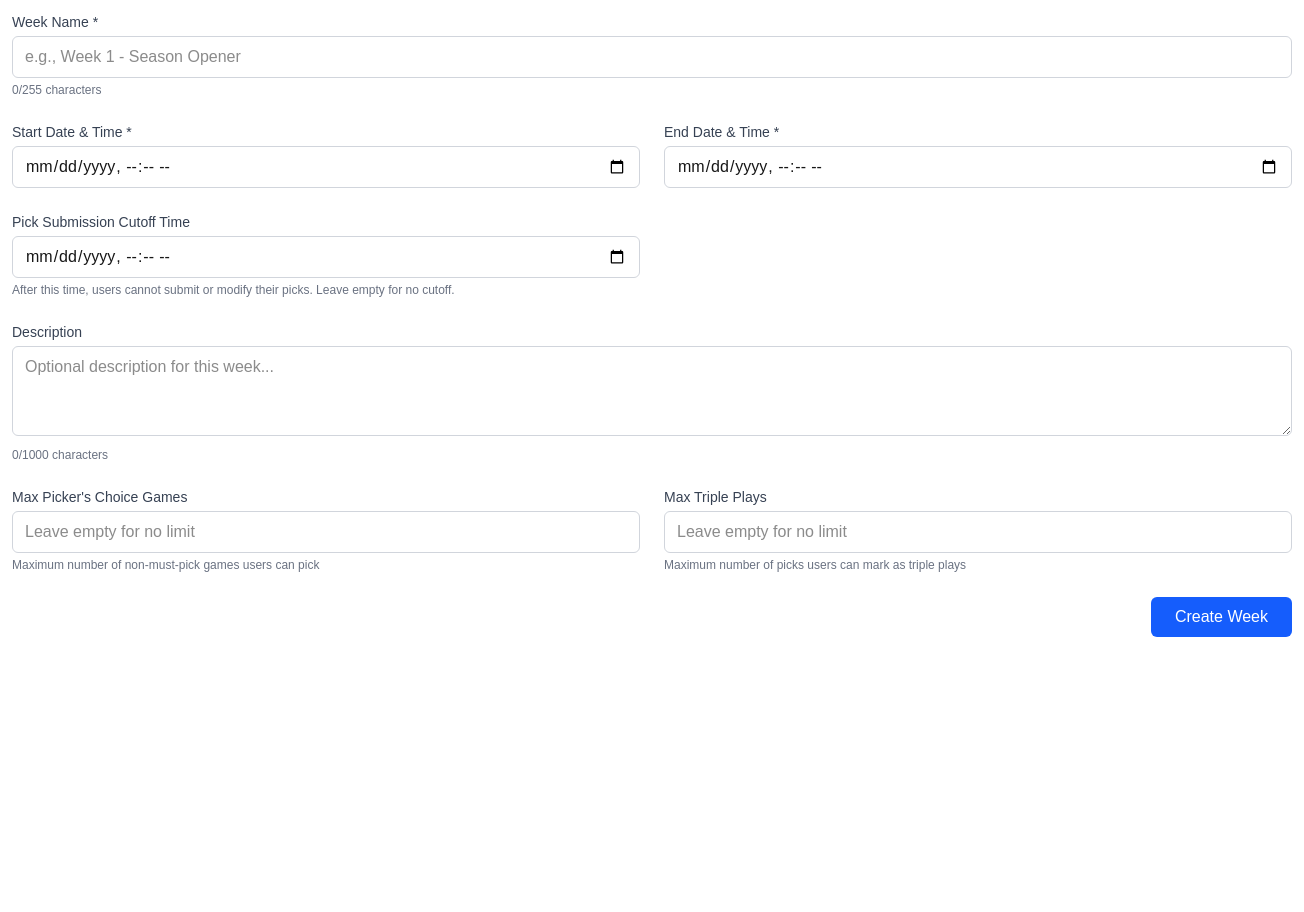
it: WeekForm › should validate date range
In the field labelled "Week Name *": (652, 57) [12,36,1292,78], type "Test Week"
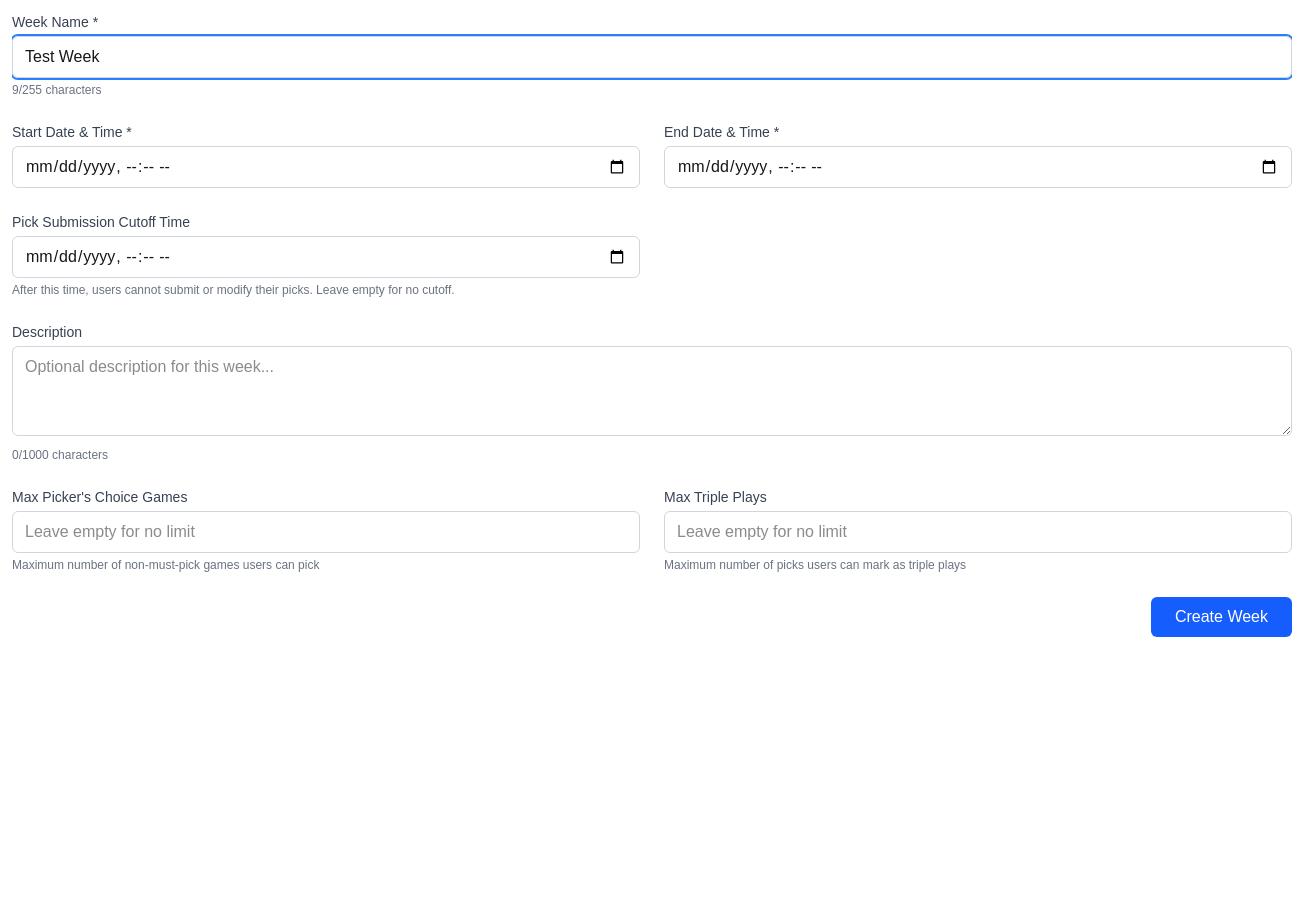
In the field labelled "Start Date & Time *": (326, 167) [12,146,640,188], type "2024-09-08T00:00"
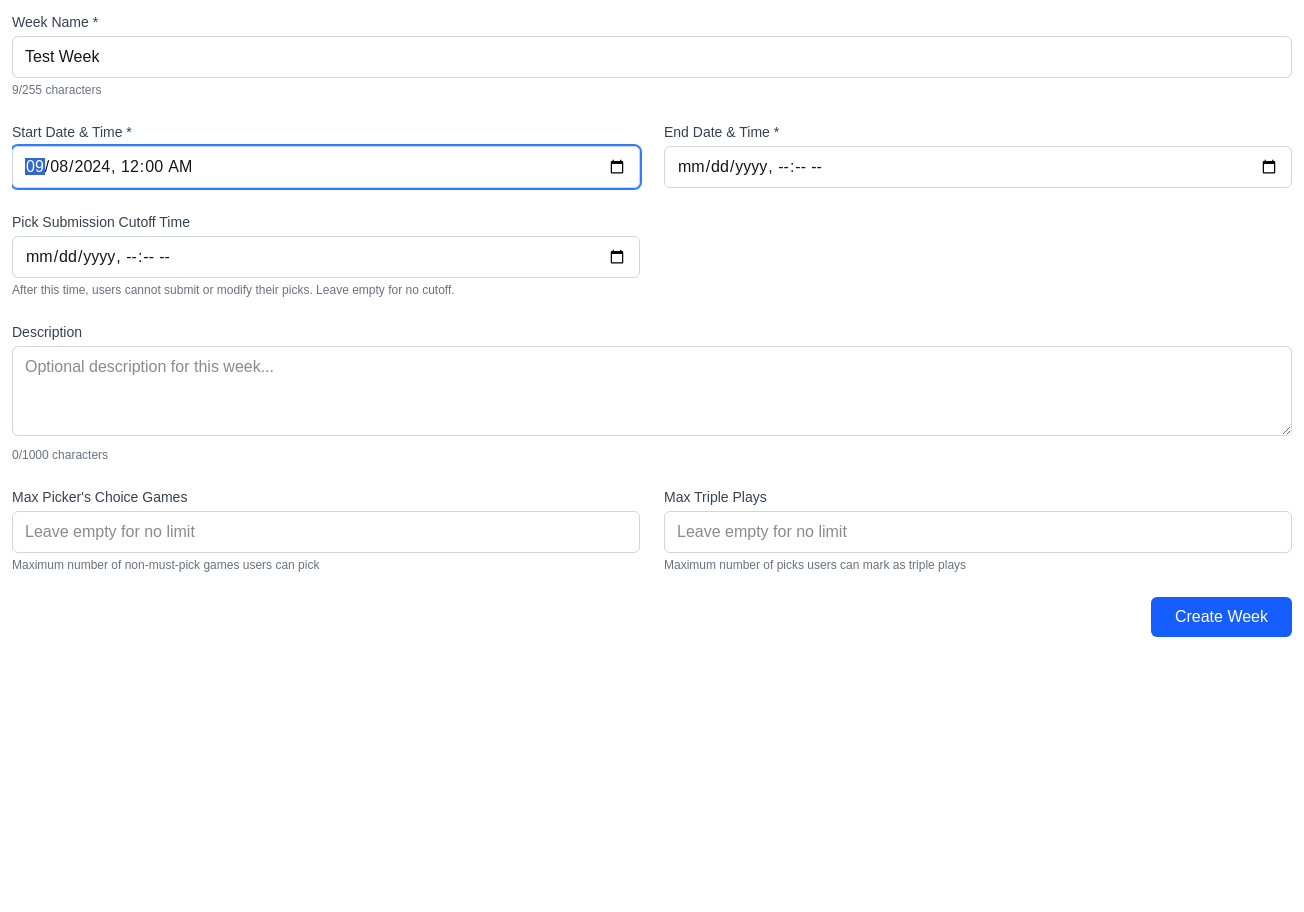
In the field labelled "End Date & Time *": (978, 167) [664,146,1292,188], type "2024-09-01T23:59"
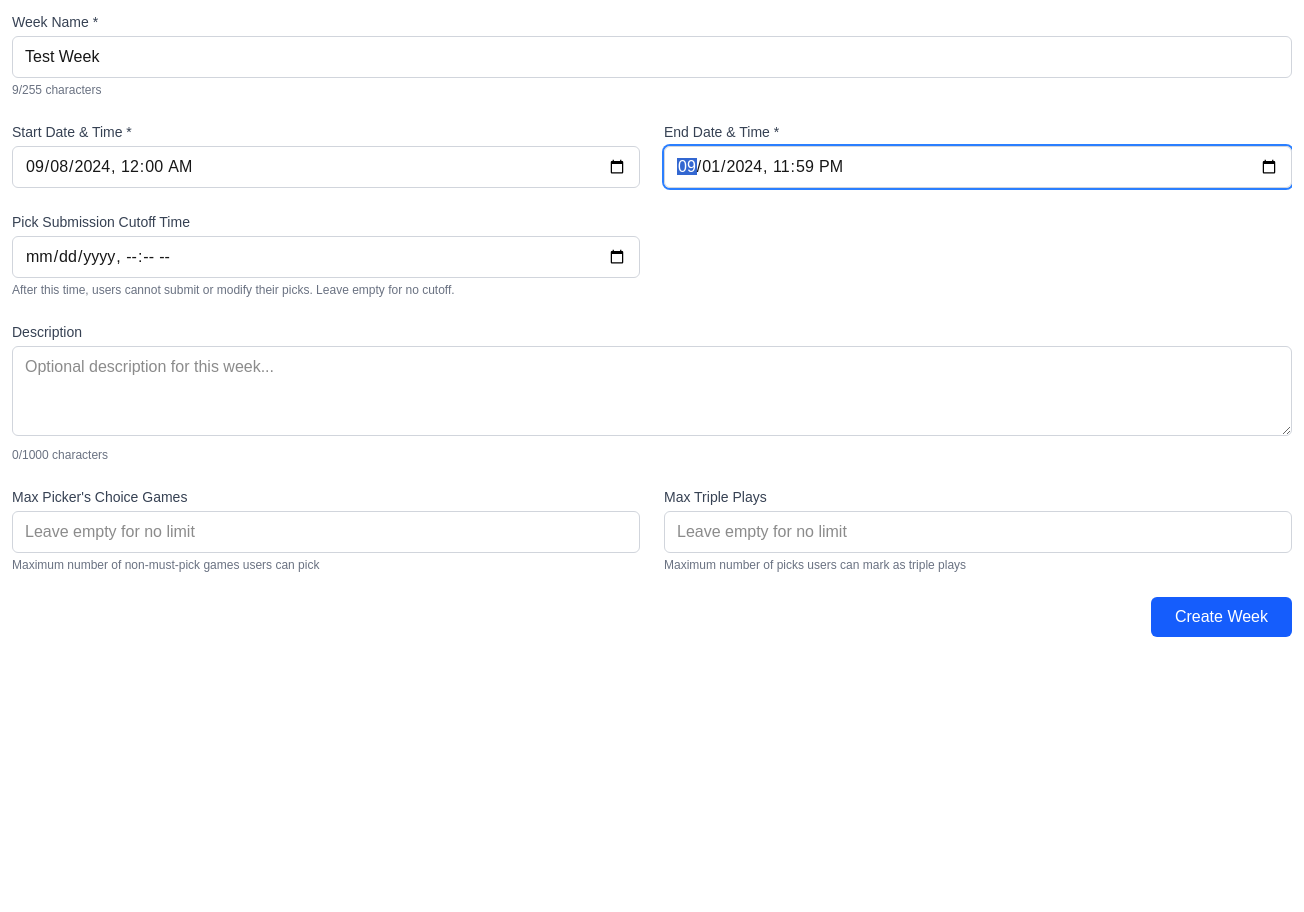
Click the button "Create Week": (1221, 617) [1151,597,1292,637]
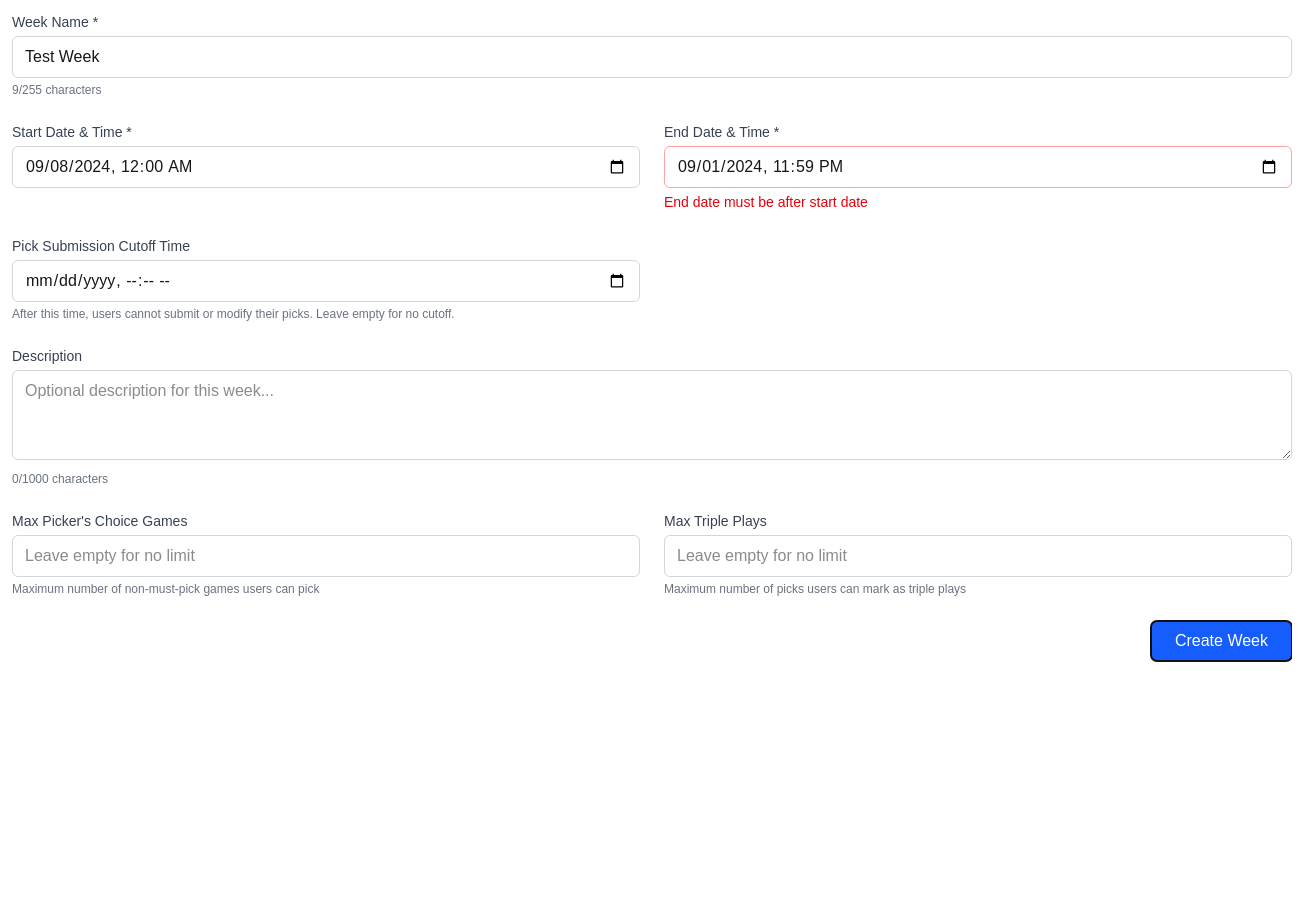
Now the text "End date must be after start date" is shown, box [664,194,868,210]
